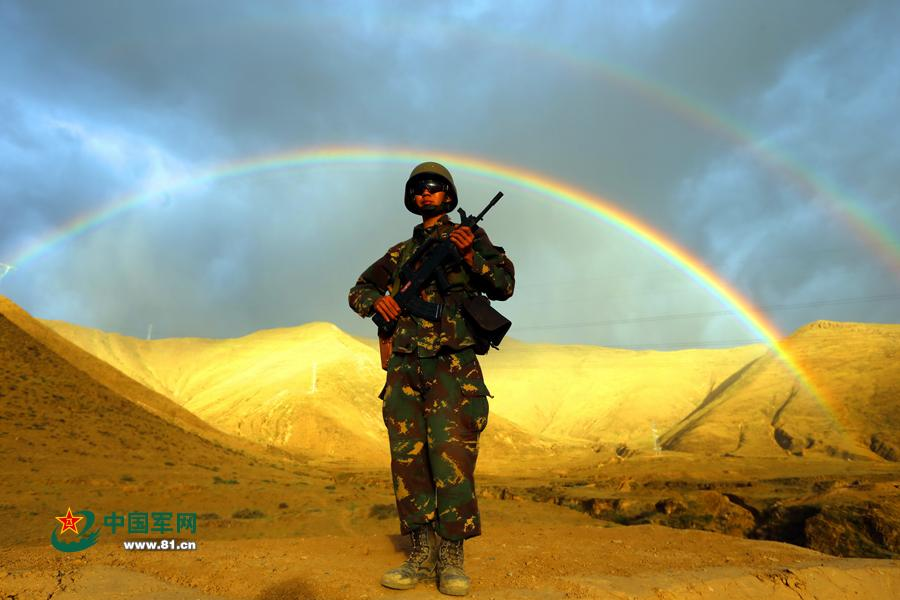up: (342, 154, 517, 596)
